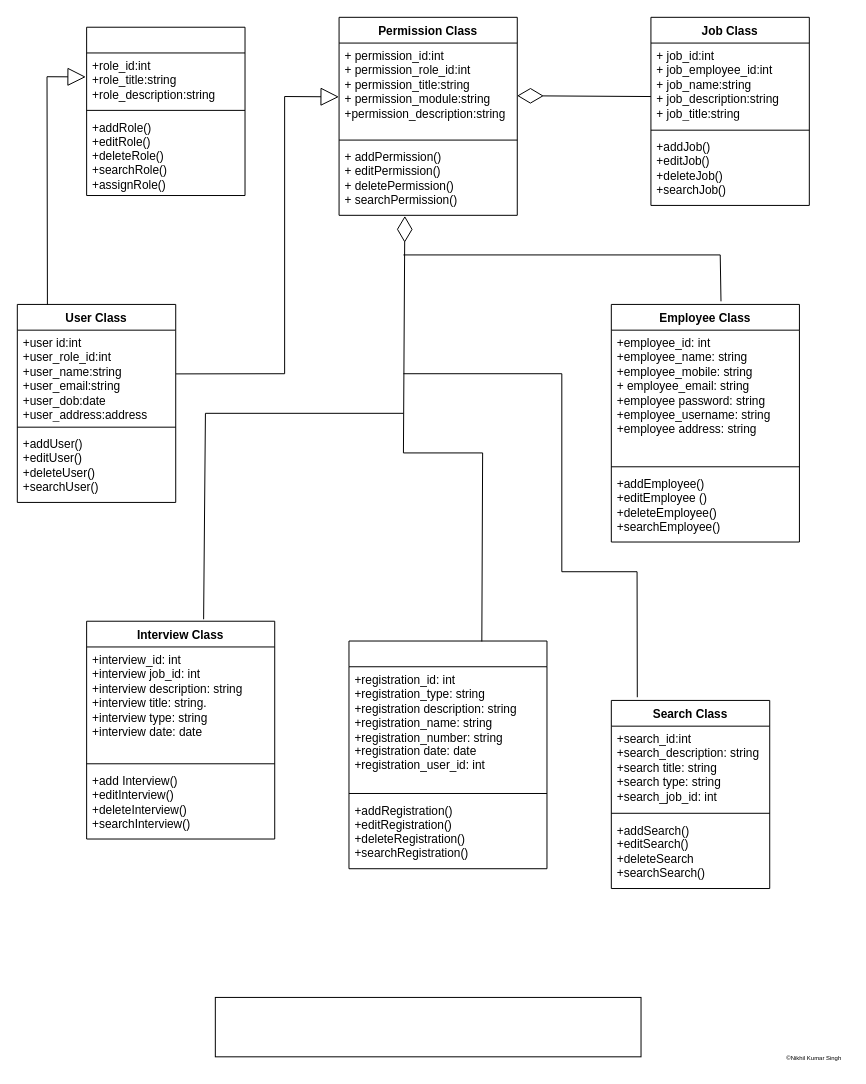
The diagram is 866 pixels wide and 1084 high, and some of its shapes have lost their labels. Each missing label, with the box of its shape:
Class Diagram of GlassDoor Website: (214, 996, 641, 1057)
Registration Class: (348, 640, 547, 869)
Role Class: (86, 26, 245, 196)
